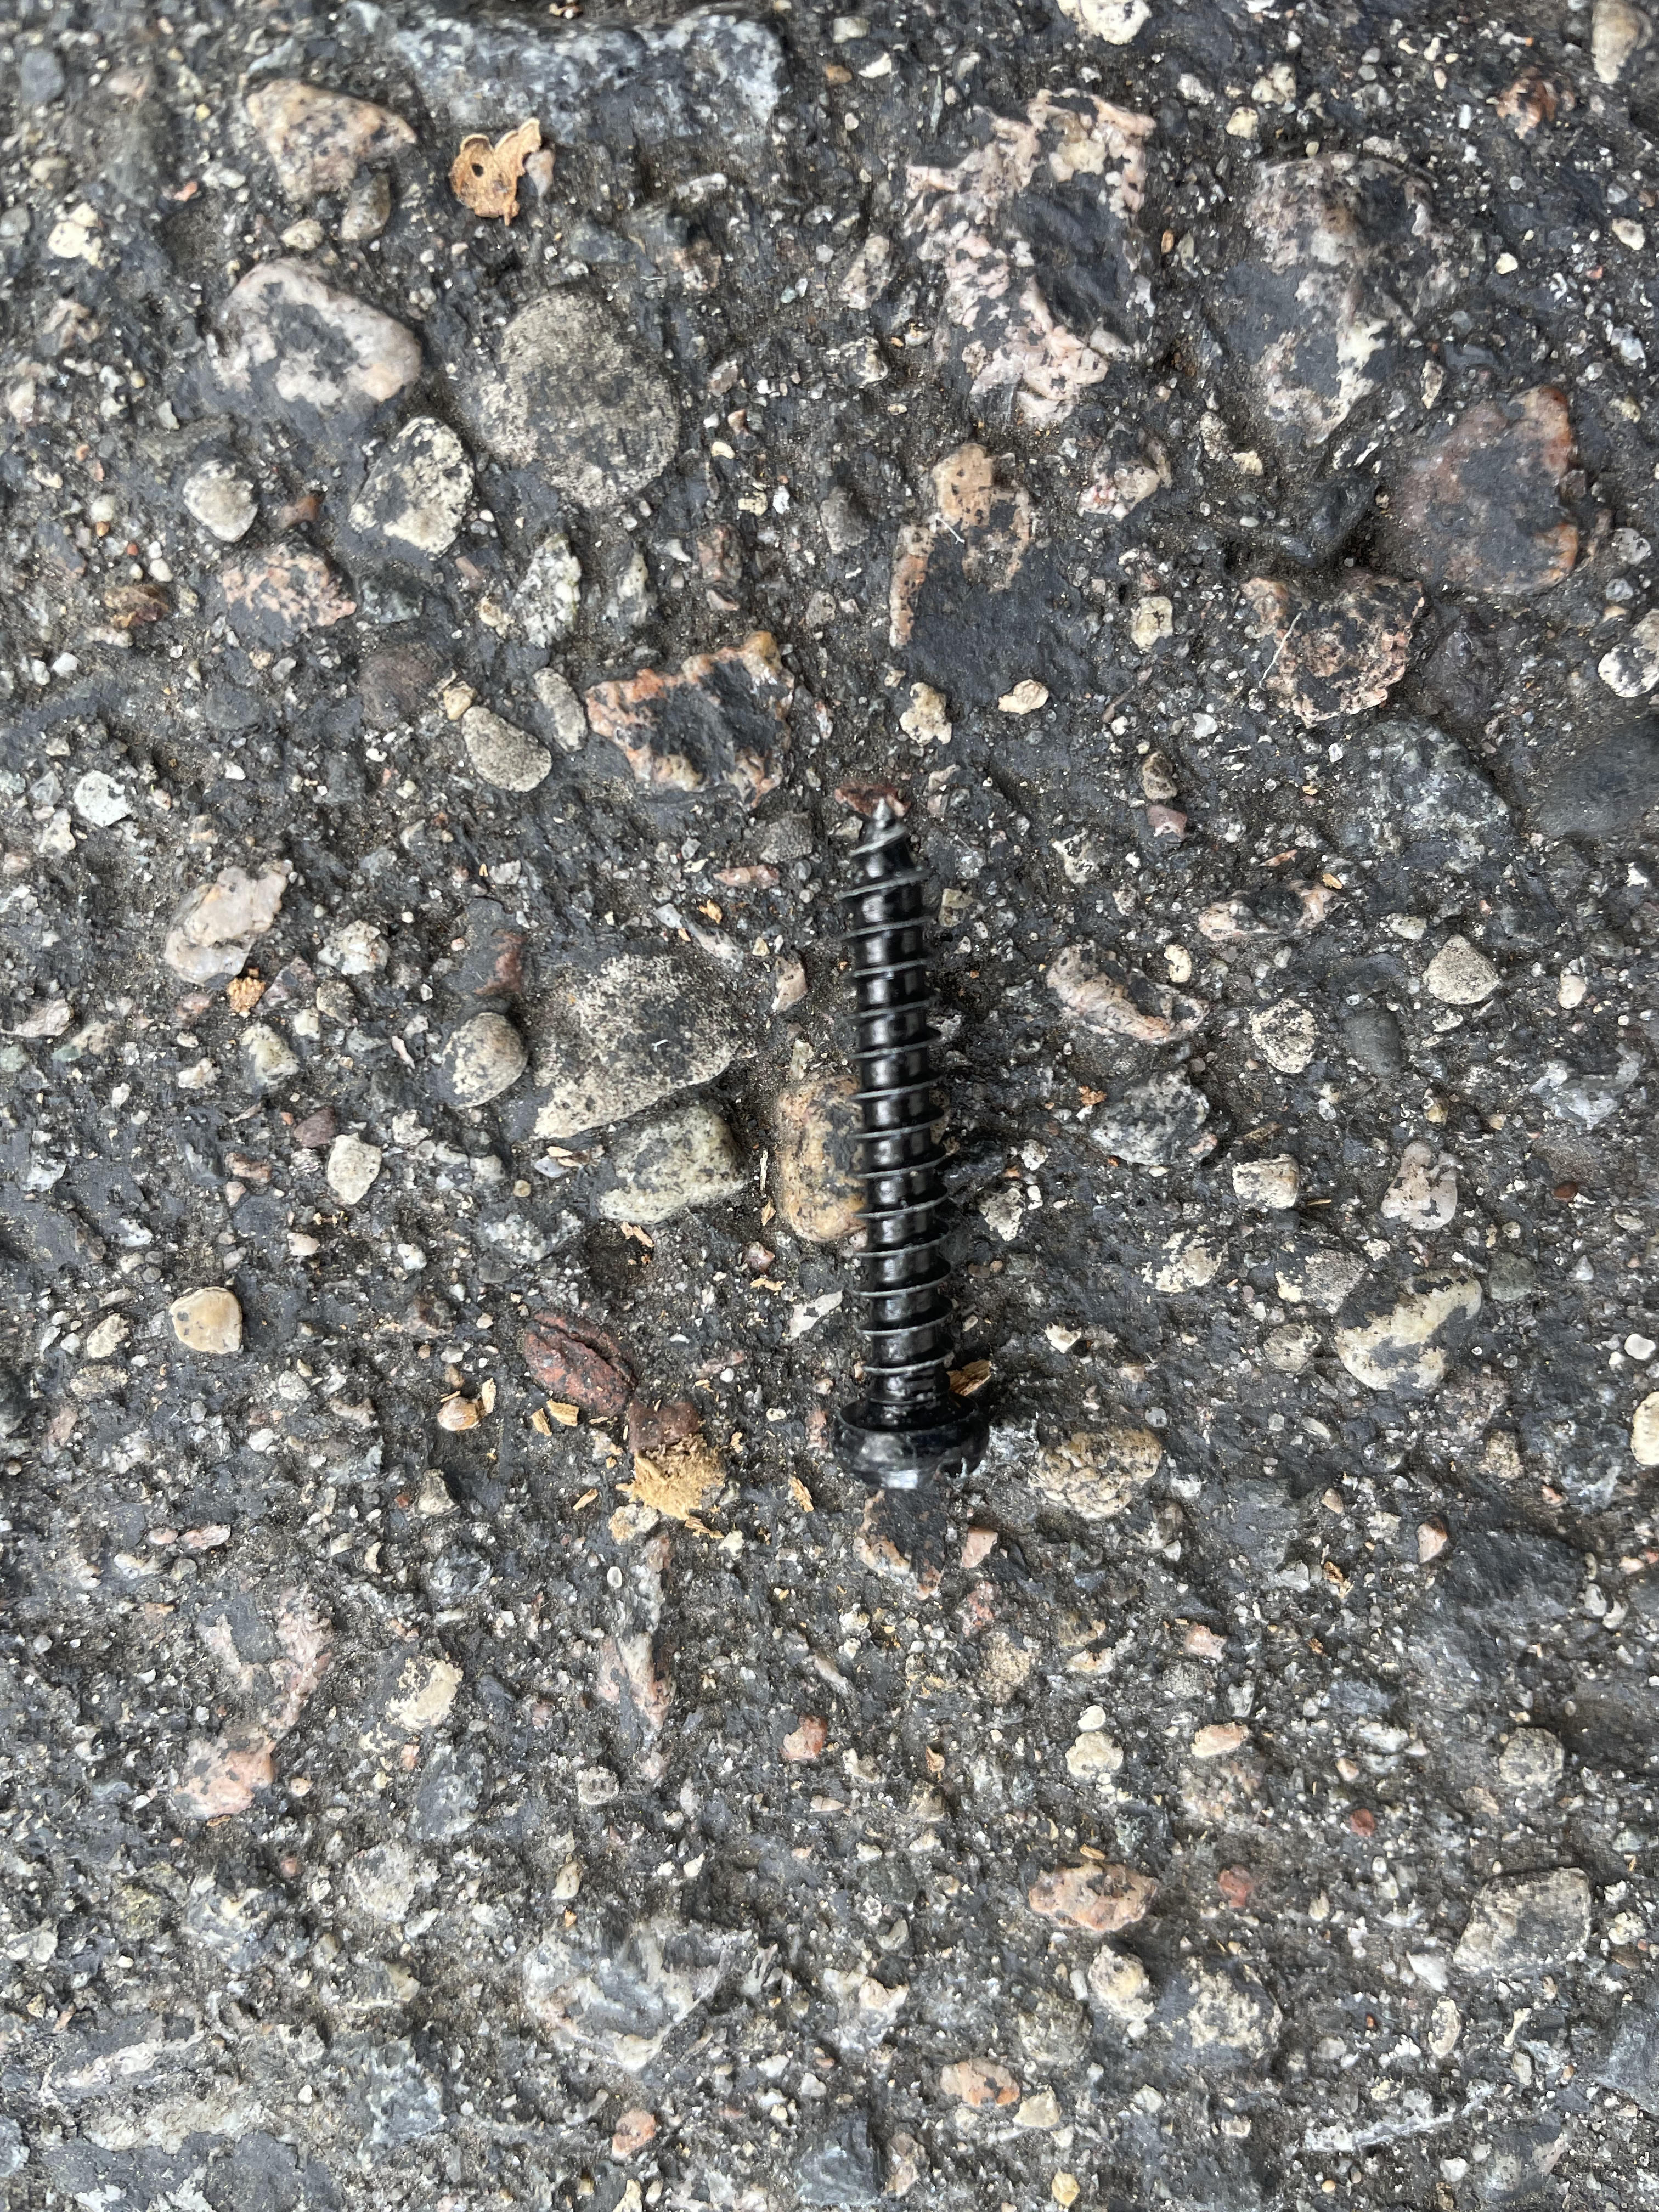screw: (833, 796, 988, 1474)
